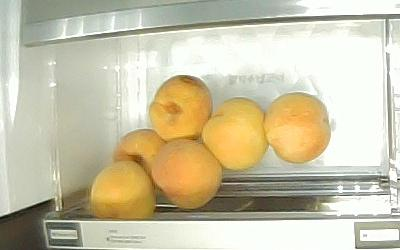peach: (152, 137, 221, 209), (263, 92, 331, 163), (202, 97, 267, 169), (148, 74, 212, 143), (89, 161, 155, 220), (114, 129, 166, 176)
